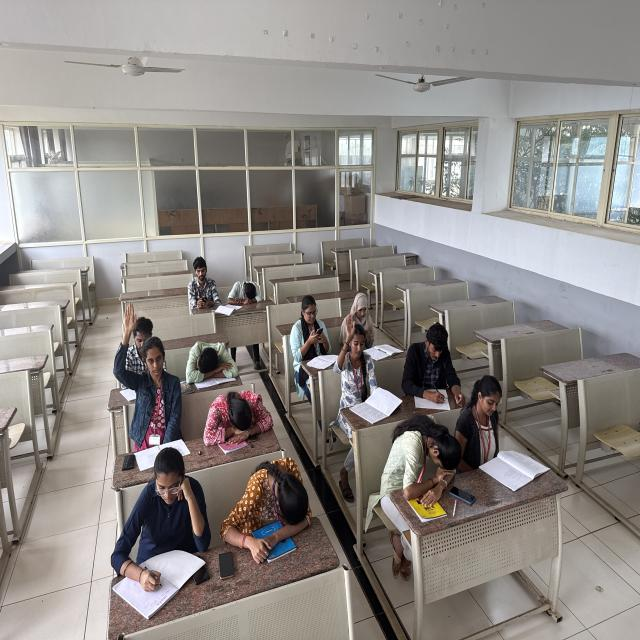Hand Rising: (113, 298, 186, 448), (330, 310, 385, 430)
Reading: (456, 375, 537, 495)
Sleeping: (217, 455, 319, 569), (376, 408, 464, 520), (198, 385, 279, 461), (178, 332, 248, 392), (224, 273, 268, 312)
Using Phone: (286, 290, 332, 362), (178, 254, 221, 313), (338, 290, 379, 347)
Writing: (102, 443, 216, 619), (399, 317, 468, 413)
